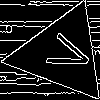V: (36, 29, 95, 77)
